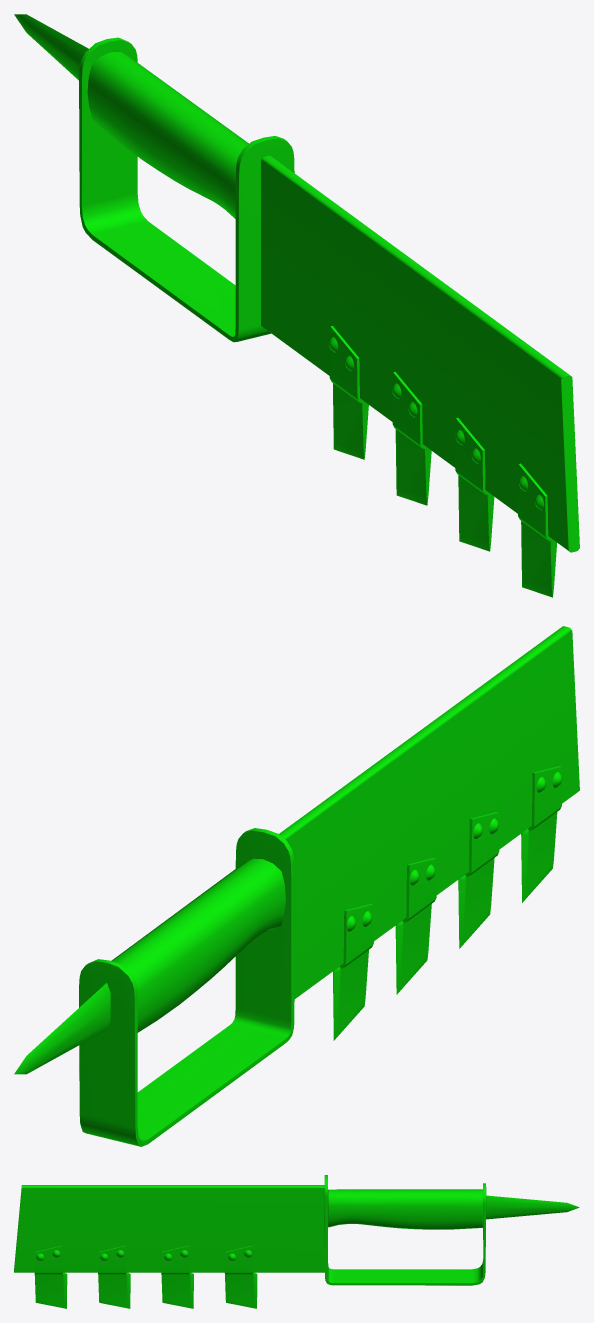
Rendered from knife_saw_01_low.fbx.
3 views of the same model, one above another, from view 1: azimuth 30°, elevation 25°; view 2: azimuth 150°, elevation 25°; view 3: azimuth 270°, elevation 25° (orthographic). The views are drawn at different scales.
Parts seen in each view (by area): view 1: knife_saw_01_blade_low, knife_saw_01_guard_low, knife_saw_01_teeth_low, knife_saw_01_handle_low, knife_saw_01_point_low, knife_saw_01_rivets_low; view 2: knife_saw_01_blade_low, knife_saw_01_guard_low, knife_saw_01_teeth_low, knife_saw_01_handle_low, knife_saw_01_point_low, knife_saw_01_rivets_low; view 3: knife_saw_01_blade_low, knife_saw_01_teeth_low, knife_saw_01_handle_low, knife_saw_01_guard_low, knife_saw_01_point_low, knife_saw_01_rivets_low.
Part boxes in pixels (bbox=[...]): knife_saw_01_blade_low: bbox=[261, 155, 579, 552]; knife_saw_01_guard_low: bbox=[79, 37, 294, 342]; knife_saw_01_teeth_low: bbox=[329, 326, 556, 597]; knife_saw_01_handle_low: bbox=[87, 52, 248, 218]; knife_saw_01_point_low: bbox=[14, 14, 88, 80]; knife_saw_01_rivets_low: bbox=[329, 337, 544, 510]; knife_saw_01_blade_low: bbox=[279, 626, 579, 998]; knife_saw_01_guard_low: bbox=[79, 828, 294, 1146]; knife_saw_01_teeth_low: bbox=[333, 766, 561, 1040]; knife_saw_01_handle_low: bbox=[111, 858, 285, 1032]; knife_saw_01_point_low: bbox=[14, 983, 110, 1074]; knife_saw_01_rivets_low: bbox=[346, 772, 561, 931]; knife_saw_01_blade_low: bbox=[14, 1185, 324, 1272]; knife_saw_01_teeth_low: bbox=[34, 1245, 257, 1308]; knife_saw_01_handle_low: bbox=[328, 1189, 482, 1229]; knife_saw_01_guard_low: bbox=[324, 1175, 486, 1285]; knife_saw_01_point_low: bbox=[486, 1195, 579, 1219]; knife_saw_01_rivets_low: bbox=[36, 1250, 252, 1260].
Size of the model in its own units: 2.5 by 11.11 by 43.29.
